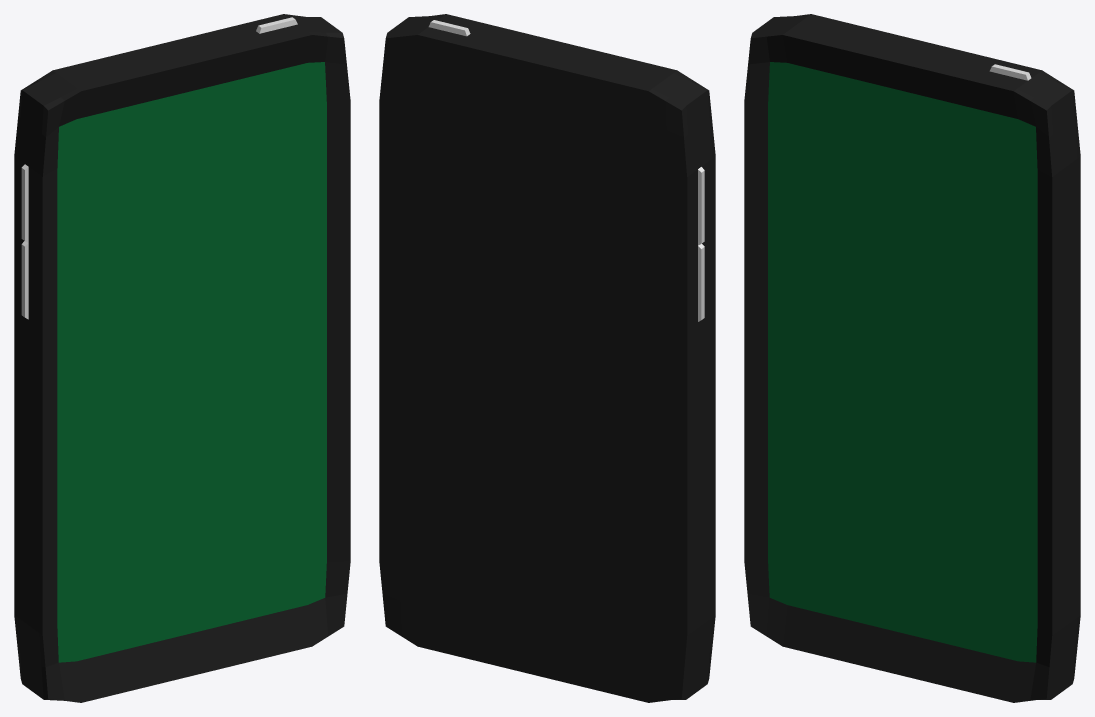
Rendered from Phone.fbx.
The picture shows the model from 3 angles, left to right: view 1: azimuth 30°, elevation 25°; view 2: azimuth 150°, elevation 25°; view 3: azimuth 330°, elevation 25°; orthographic projection.
Parts seen in each view (by area): view 1: Cube; view 2: Cube; view 3: Cube.
Part boxes in pixels (x1,y1,x2,y2): Cube: (14, 14, 350, 702); Cube: (379, 14, 715, 702); Cube: (744, 14, 1080, 702).
Size of the model in its own units: 107 by 202 by 16.94.
